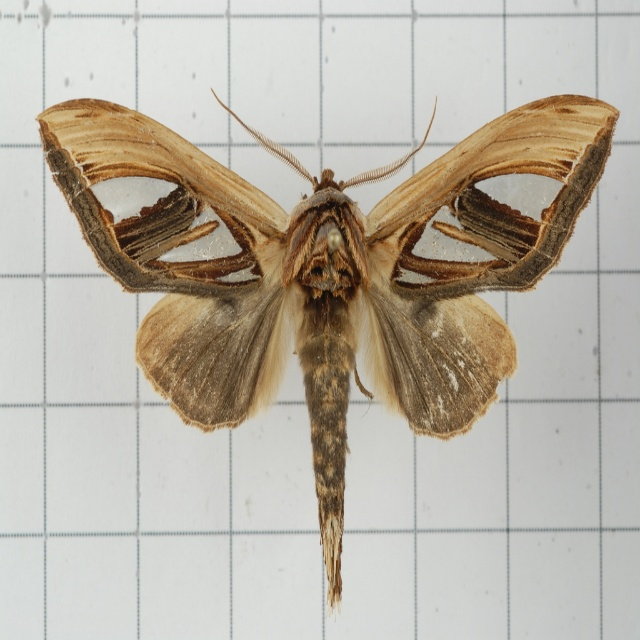Butterfly: (48, 73, 601, 598)
